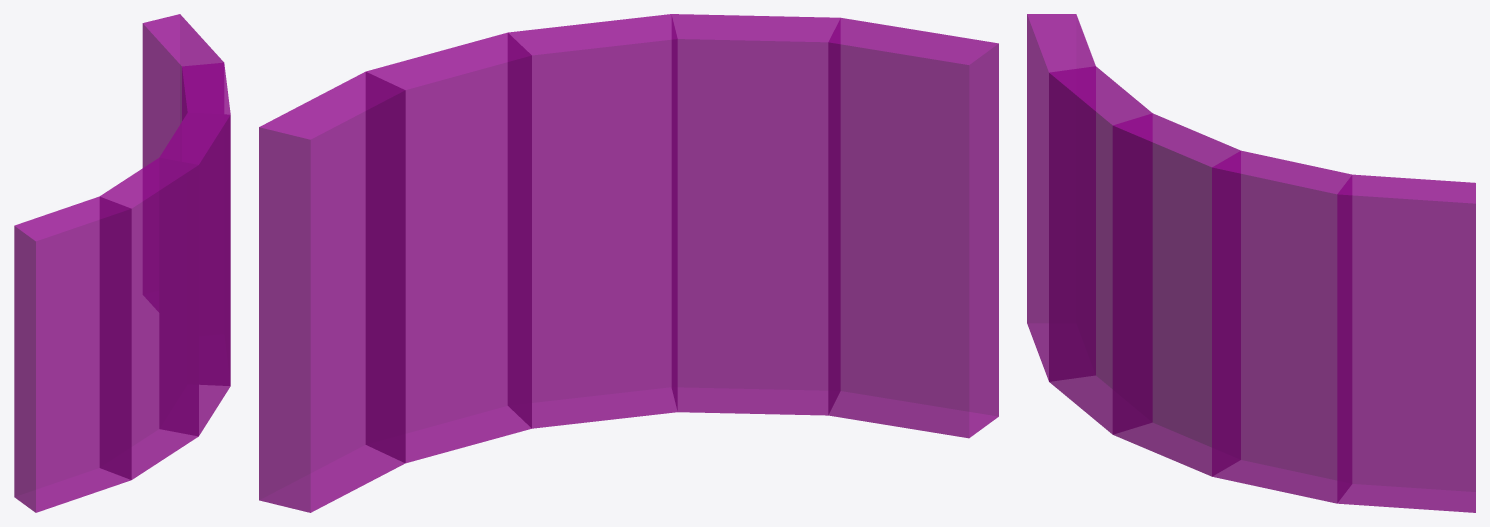
Rendered from SM_Bld_Wall_Curve_01_Collision.fbx.
3 views of the same model, side by side, from view 1: azimuth 30°, elevation 25°; view 2: azimuth 150°, elevation 25°; view 3: azimuth 270°, elevation 25° (orthographic). The views are drawn at different scales.
Parts seen in each view (by area): view 1: SM_Bld_Wall_Curve_01_Collision; view 2: SM_Bld_Wall_Curve_01_Collision; view 3: SM_Bld_Wall_Curve_01_Collision.
Part boxes in pixels (x1,y1,x2,y2): SM_Bld_Wall_Curve_01_Collision: (14, 14, 230, 512); SM_Bld_Wall_Curve_01_Collision: (259, 14, 998, 512); SM_Bld_Wall_Curve_01_Collision: (1027, 14, 1475, 512).
Bounding box in the file's own units: 398 × 303 × 398.
